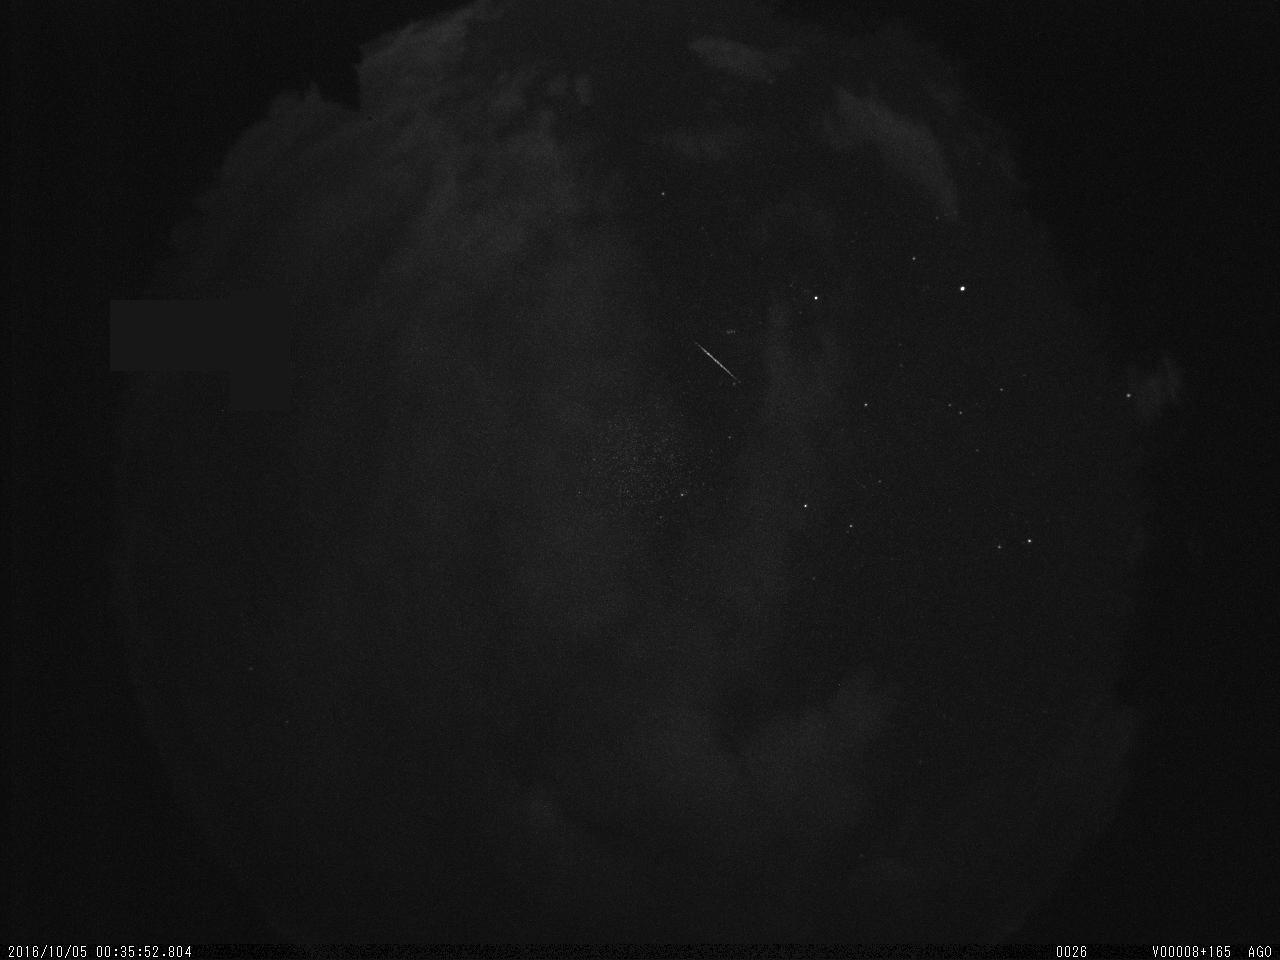meteor: (689, 338, 759, 395)
